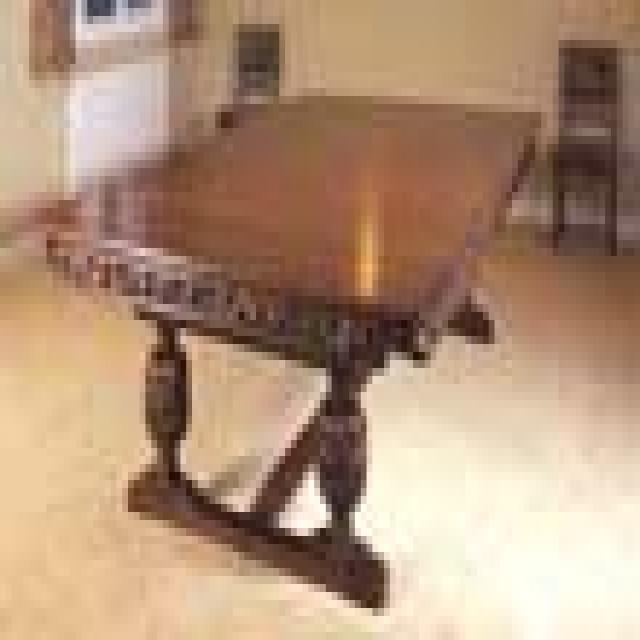table: (14, 84, 544, 613)
